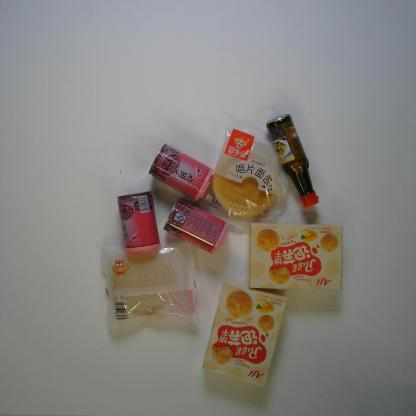Canned Food: (148, 142, 216, 205), (162, 196, 232, 257), (117, 190, 164, 256)
Dessert: (196, 122, 291, 238), (98, 237, 201, 336), (201, 278, 289, 388), (247, 218, 345, 294)
Seasoner: (266, 112, 321, 209)
